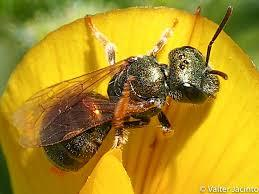Seladonia: (26, 9, 242, 171)
